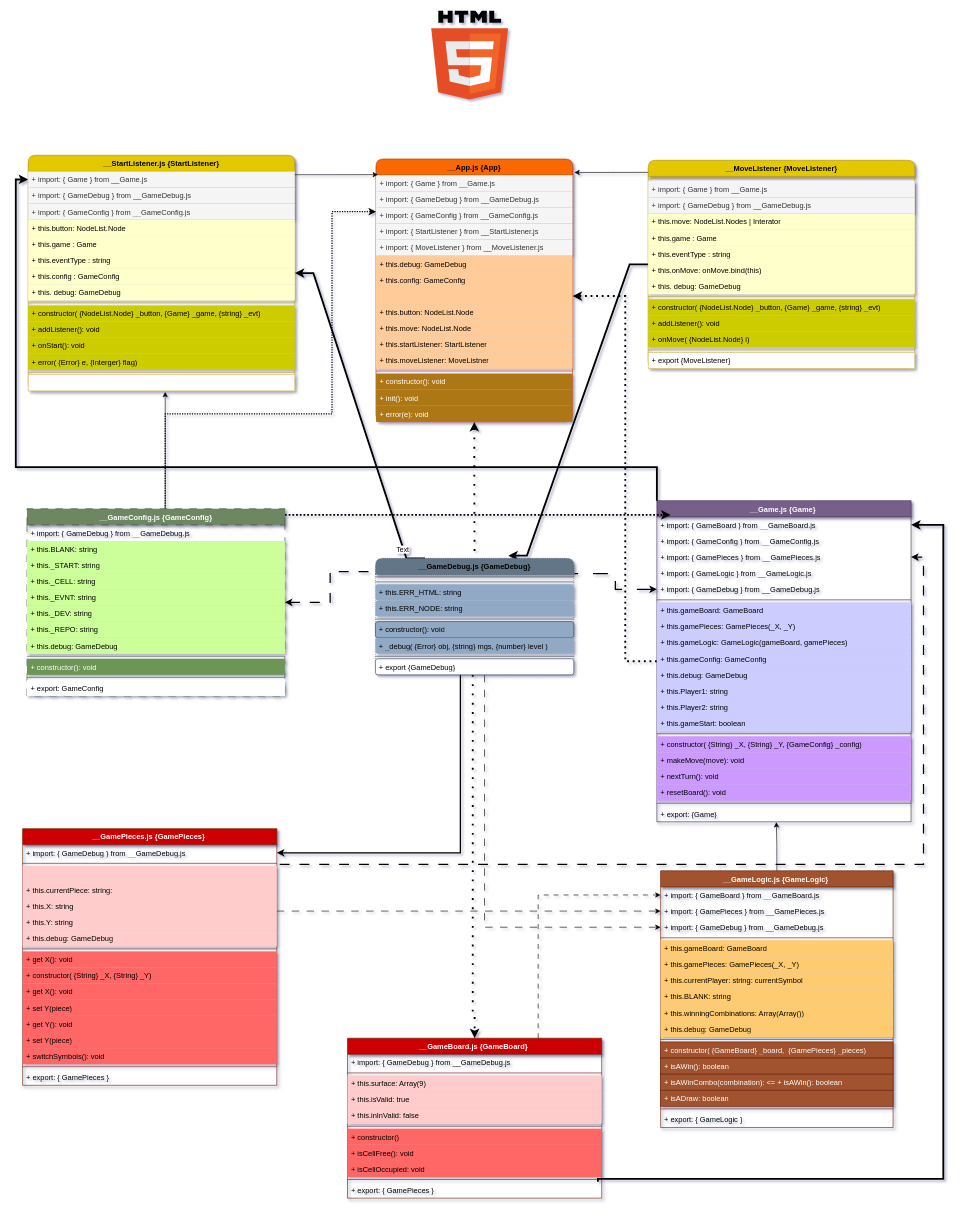
Some shapes in this 963 by 1217 pixel diagram are drawn without their labels. The shapes that lost their labels are listed below. From the top down, each one's centre as x and y in pixels, then its label:
At pixel 474 296: "+ ths.game: Game".
At pixel 161 382: "+ export {StartListener}".
At pixel 149 874: "+ this.pieces: Array(string, string)".
